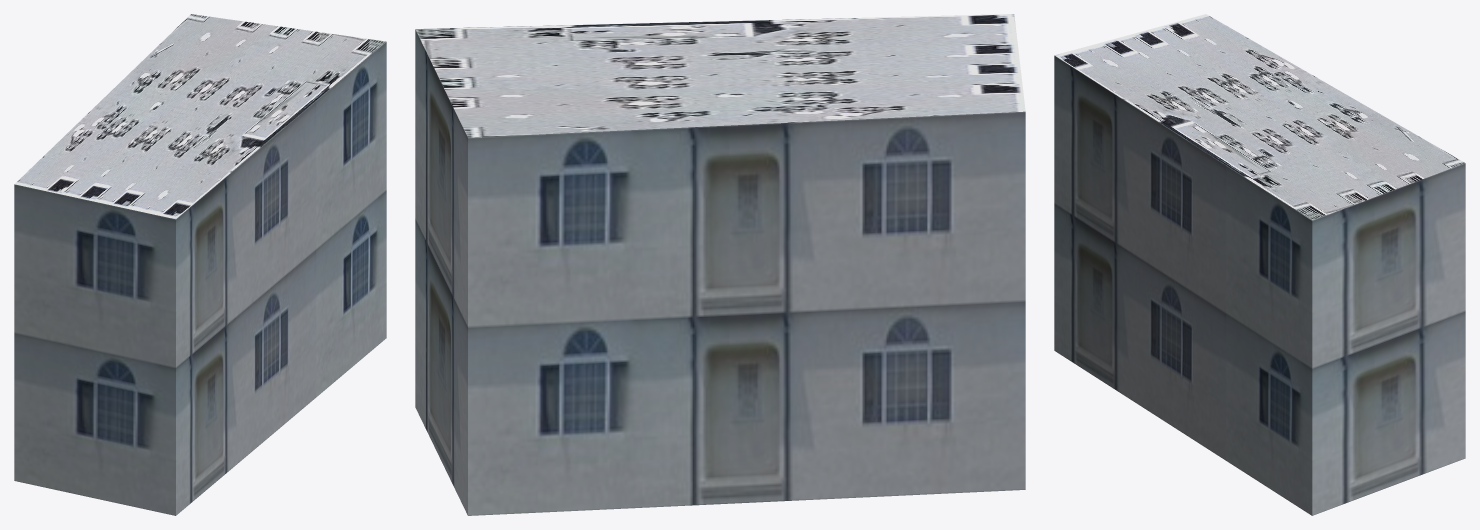
Rendered from ResTex__3540.fbx.
3 views of the same model, side by side, from view 1: azimuth 30°, elevation 25°; view 2: azimuth 150°, elevation 25°; view 3: azimuth 270°, elevation 25° (orthographic). The views are drawn at different scales.
Visible parts, largest first — view 1: CityEngineMaterial_17_m, CityEngineMaterial_8_m; view 2: CityEngineMaterial_17_m, CityEngineMaterial_8_m; view 3: CityEngineMaterial_17_m, CityEngineMaterial_8_m.
Part boxes in pixels (left/top/right/bottom): CityEngineMaterial_17_m: left=14, top=42, right=386, bottom=515; CityEngineMaterial_8_m: left=15, top=14, right=386, bottom=219; CityEngineMaterial_17_m: left=415, top=29, right=1025, bottom=515; CityEngineMaterial_8_m: left=415, top=14, right=1025, bottom=137; CityEngineMaterial_17_m: left=1054, top=55, right=1465, bottom=515; CityEngineMaterial_8_m: left=1054, top=14, right=1465, bottom=220.
Bounding box in the file's own units: 9.01 × 6 × 7.58.
2 materials, 2 textured.
